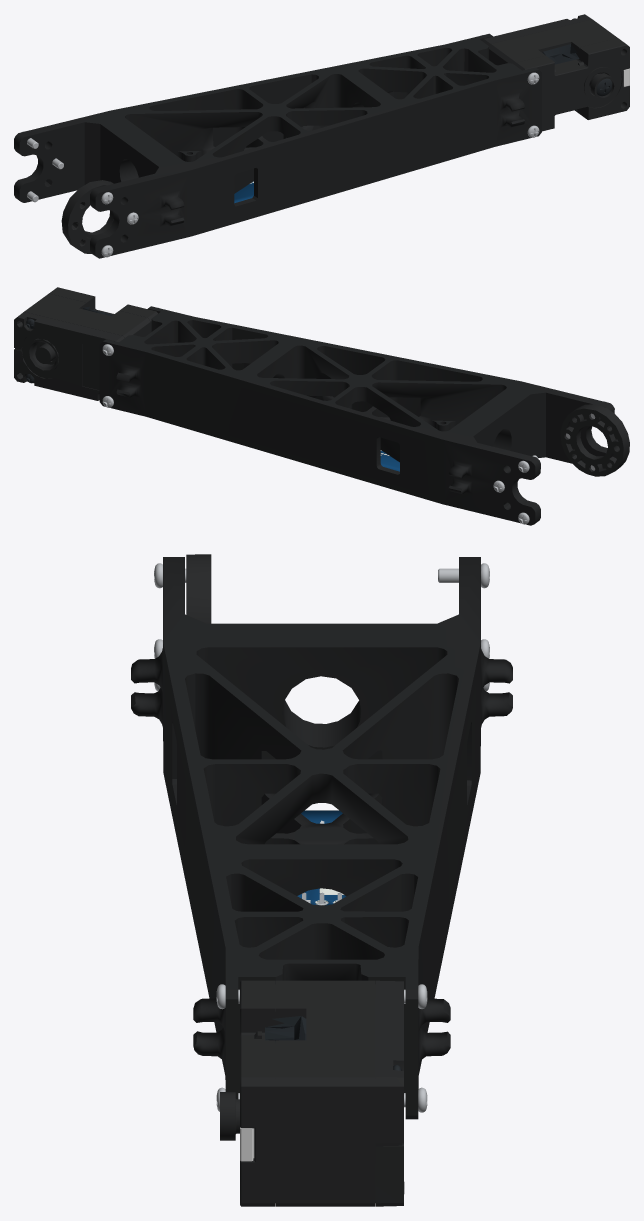
3 views of the same model, one above another, from view 1: azimuth 30°, elevation 25°; view 2: azimuth 150°, elevation 25°; view 3: azimuth 270°, elevation 25° (orthographic). The views are drawn at different scales.
Visible parts, largest first — view 1: link3 (×4); view 2: link3 (×3); view 3: link3 (×5).
Part boxes in pixels (bbox=[...]): link3 (×4): bbox=[14, 14, 629, 258]; link3 (×3): bbox=[14, 287, 629, 525]; link3 (×5): bbox=[131, 554, 512, 1206].
Bounding box in the file's own units: 0.1817 × 0.0535 × 0.0251.
Materials: 16 (2 with a texture image).
